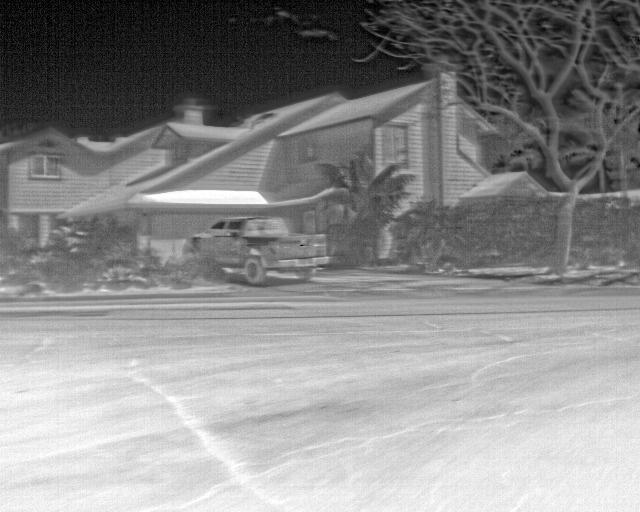car: (187, 214, 329, 286)
